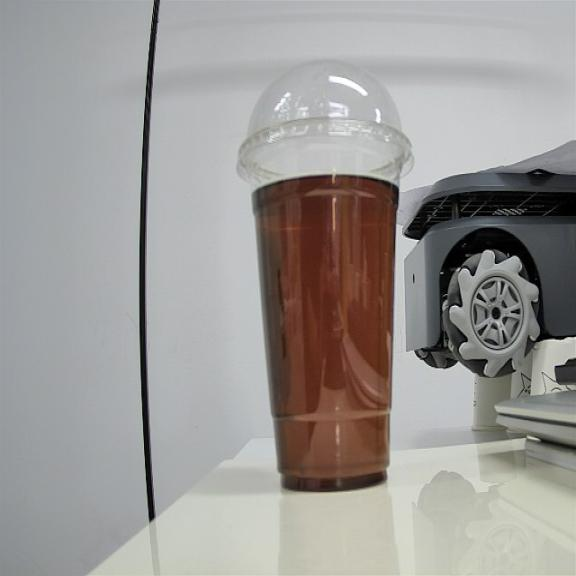Plastik: (237, 62, 413, 490)
